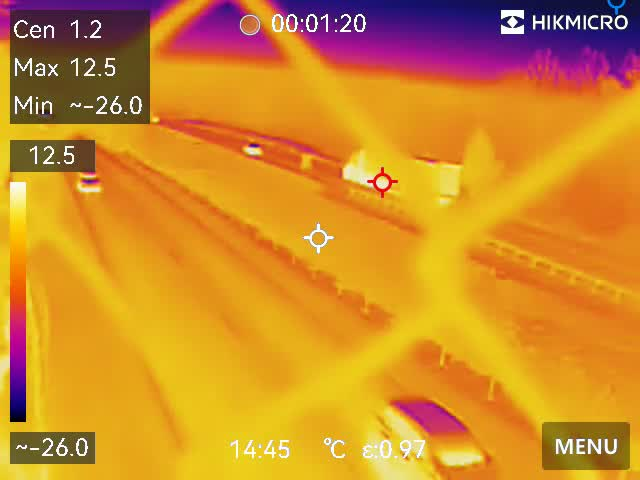heavyTruck: (338, 145, 461, 209)
largeCar: (369, 395, 495, 480)
vehicle: (70, 162, 103, 197), (239, 140, 266, 159)
